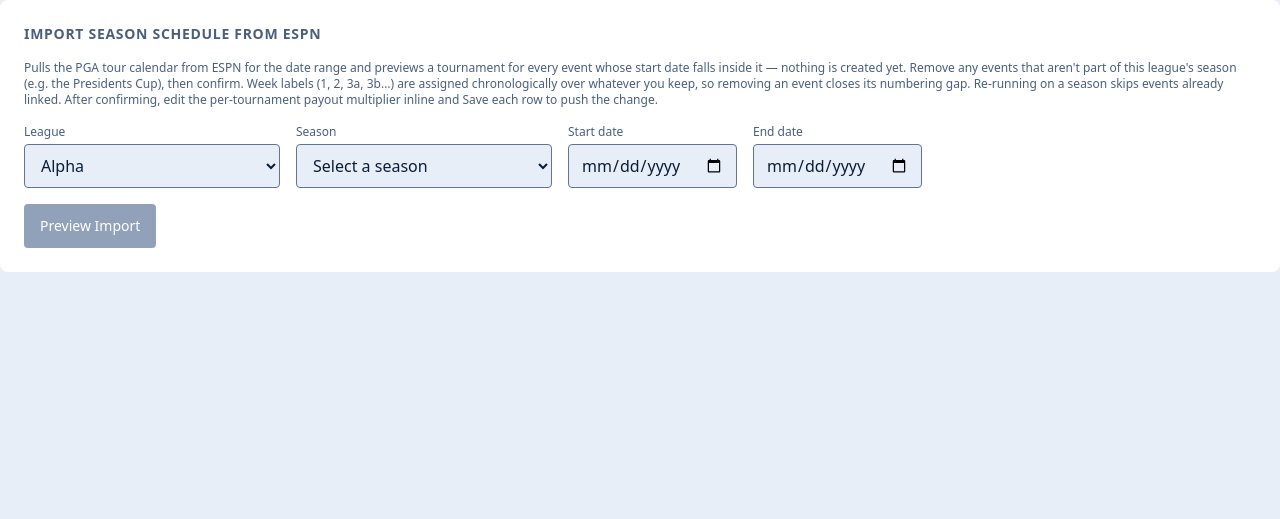
Test: UploadScheduleSection › lets the operator save a per-row multiplier change after confirming
Select "2026 Spring" in the dropdown labelled "Season" at x=424, y=166, box [296, 144, 552, 188]
Type "2026-01-01" into the date field labelled "Start date".
click(652, 166); type("2026-01-01")  # box [568, 144, 737, 188]
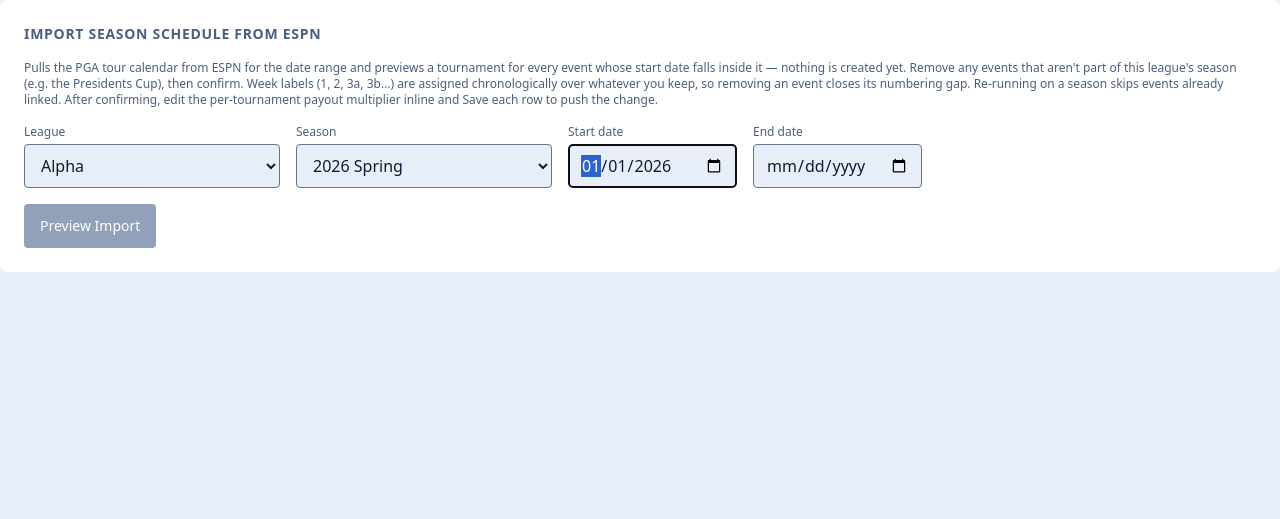
Type "2026-12-31" into the date field labelled "End date".
click(838, 166); type("2026-12-31")  # box [753, 144, 922, 188]
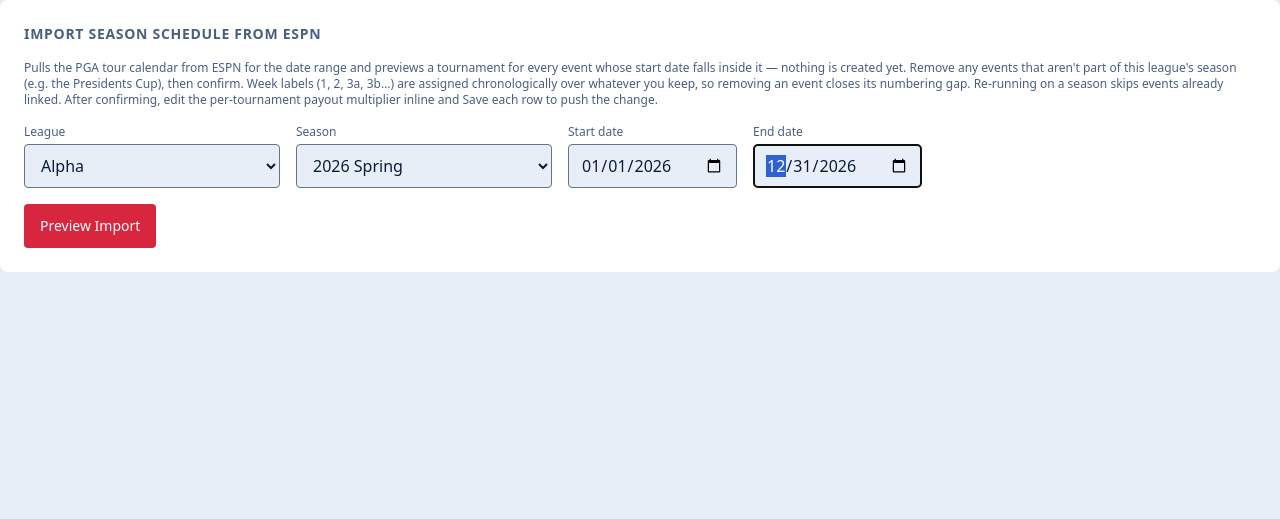
Click the button "Preview Import".
click(90, 226)  # box [24, 204, 156, 248]
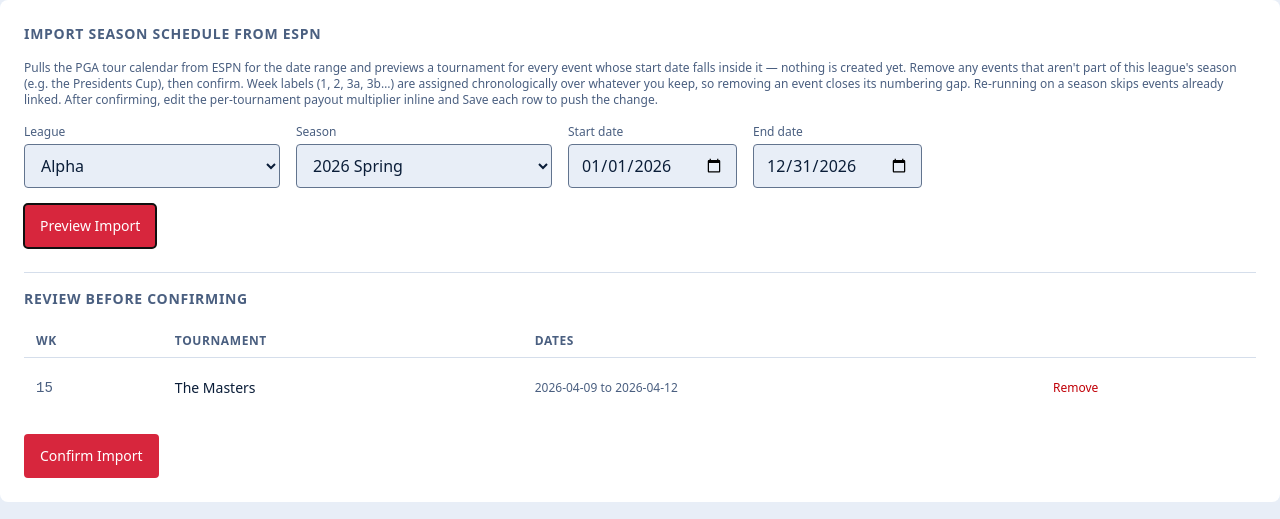
Click the button "Confirm Import".
click(91, 456)  # box [24, 434, 159, 478]
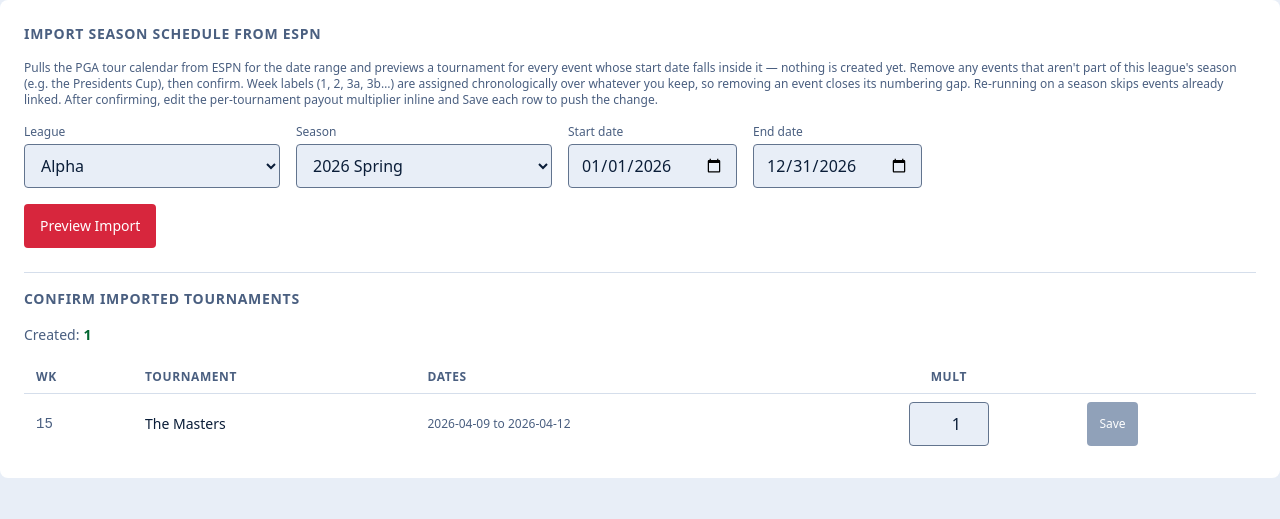
Now the button "Save" is disabled, box [1087, 402, 1138, 446]
Replace the text in the number field named "Payout multiplier for The Masters" with "2" at x=949, y=424, box [909, 402, 989, 446]
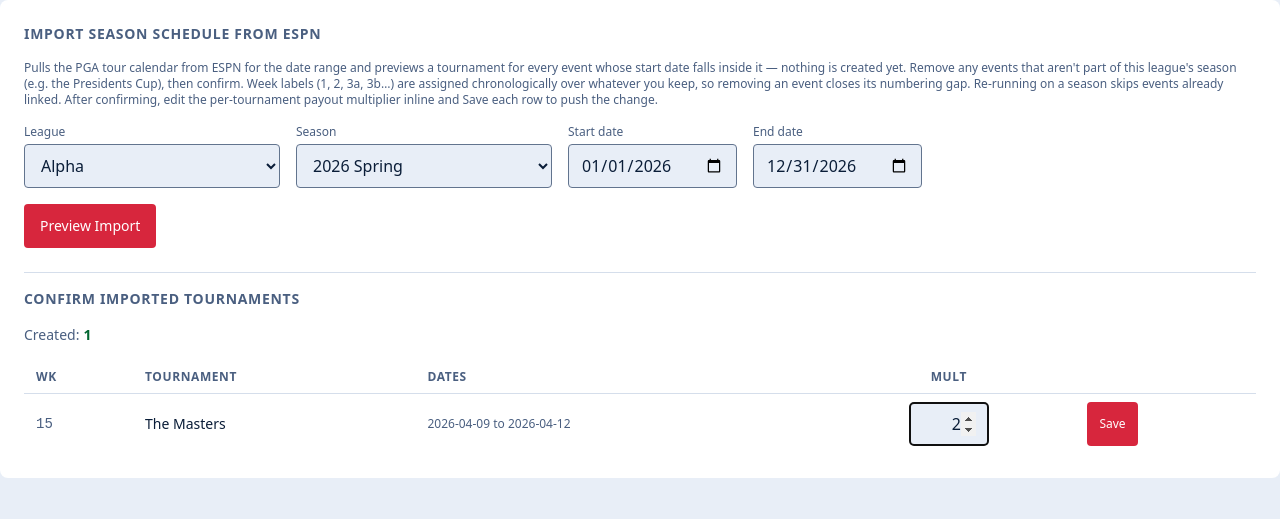
Now the button "Save" is enabled
Click the button "Save".
click(1112, 424)  # box [1087, 402, 1138, 446]
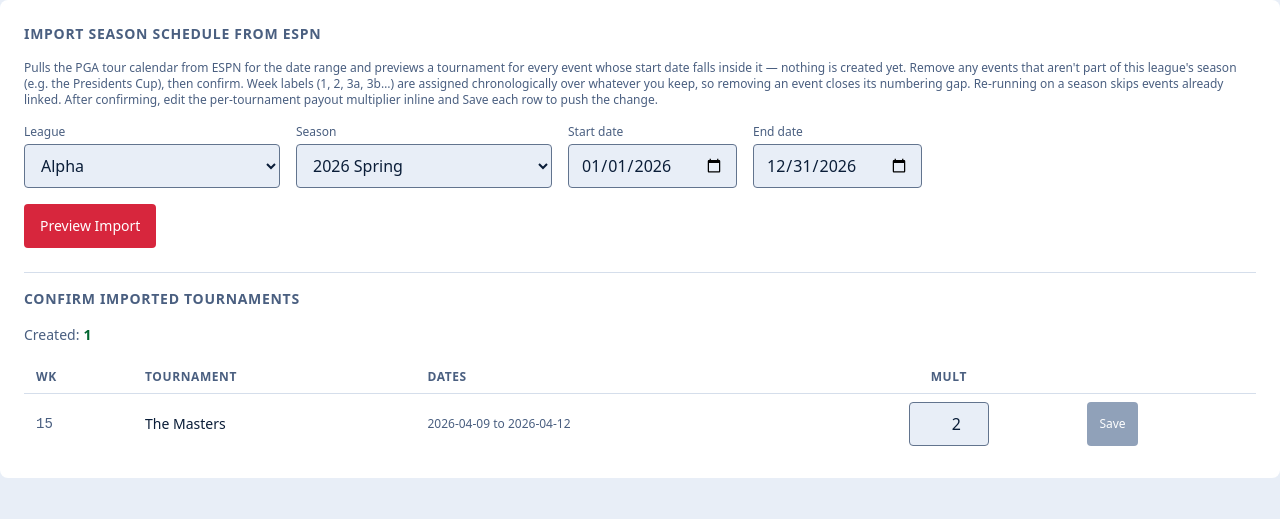
Now the button "Save" is disabled, box [1087, 402, 1138, 446]
